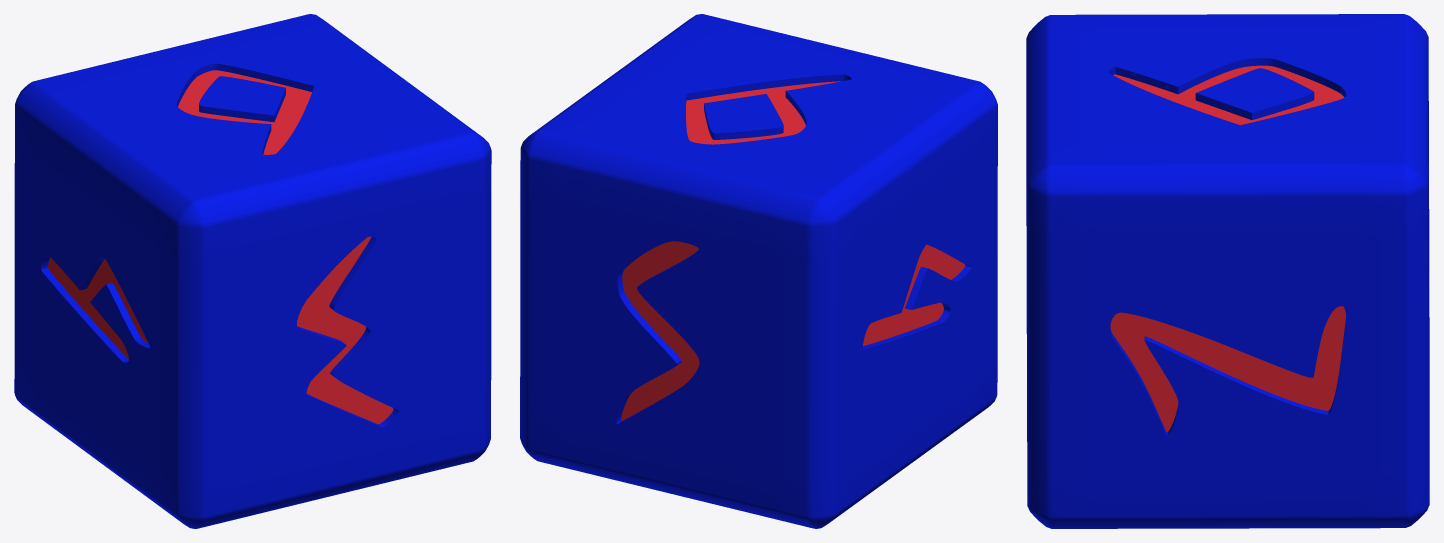
Rendered from leseis.glb.
3 renders of one model, left to right at view 1: azimuth 30°, elevation 25°; view 2: azimuth 150°, elevation 25°; view 3: azimuth 270°, elevation 25°, orthographic. The views are drawn at different scales.
Visible parts, largest first — view 1: Object_11.003; view 2: Object_11.003; view 3: Object_11.003.
Part boxes in pixels (left/top/right/bottom): Object_11.003: left=14, top=14, right=491, bottom=528; Object_11.003: left=520, top=14, right=997, bottom=528; Object_11.003: left=1026, top=14, right=1429, bottom=528.
Size of the model in its own units: 0.915 by 0.9173 by 0.9172.
